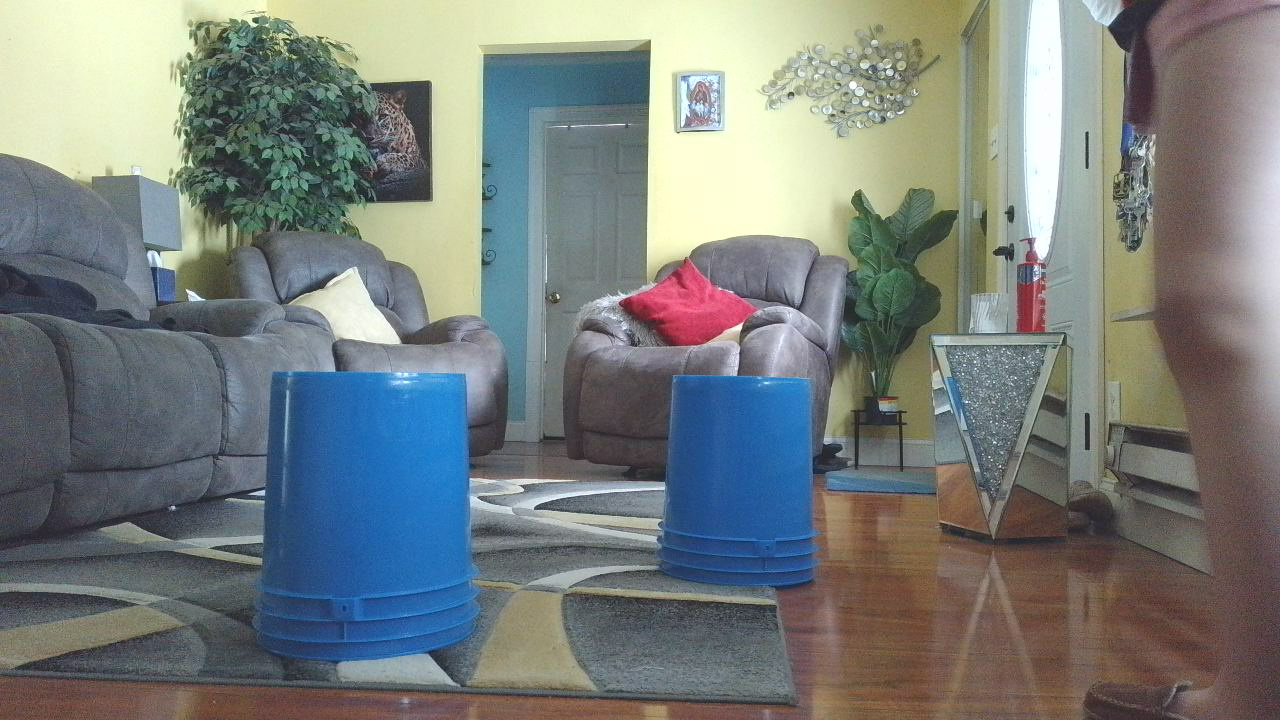blue_bucket: (246, 372, 497, 674), (651, 377, 834, 600)
